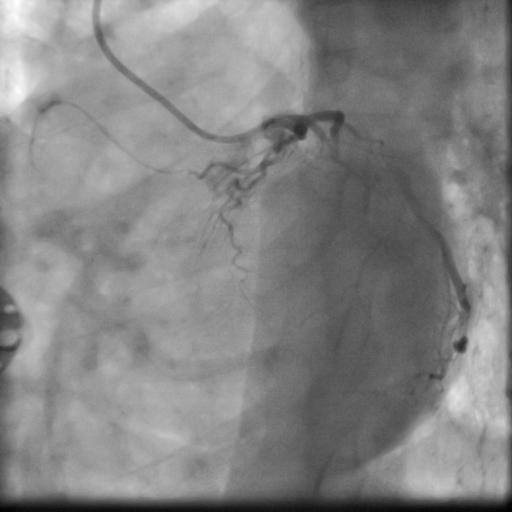Stenosis: (405, 200, 439, 231)
